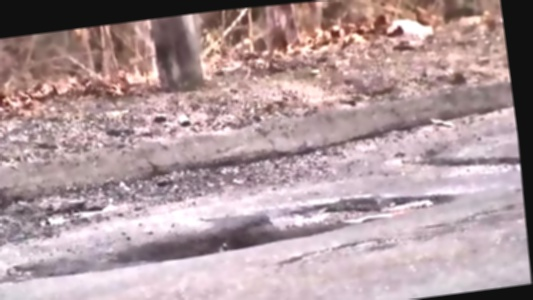pothole: (111, 174, 455, 279)
